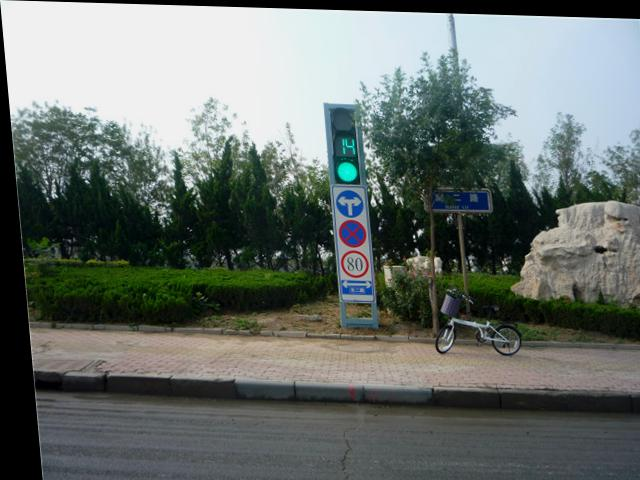limit80: (334, 246, 366, 277)
